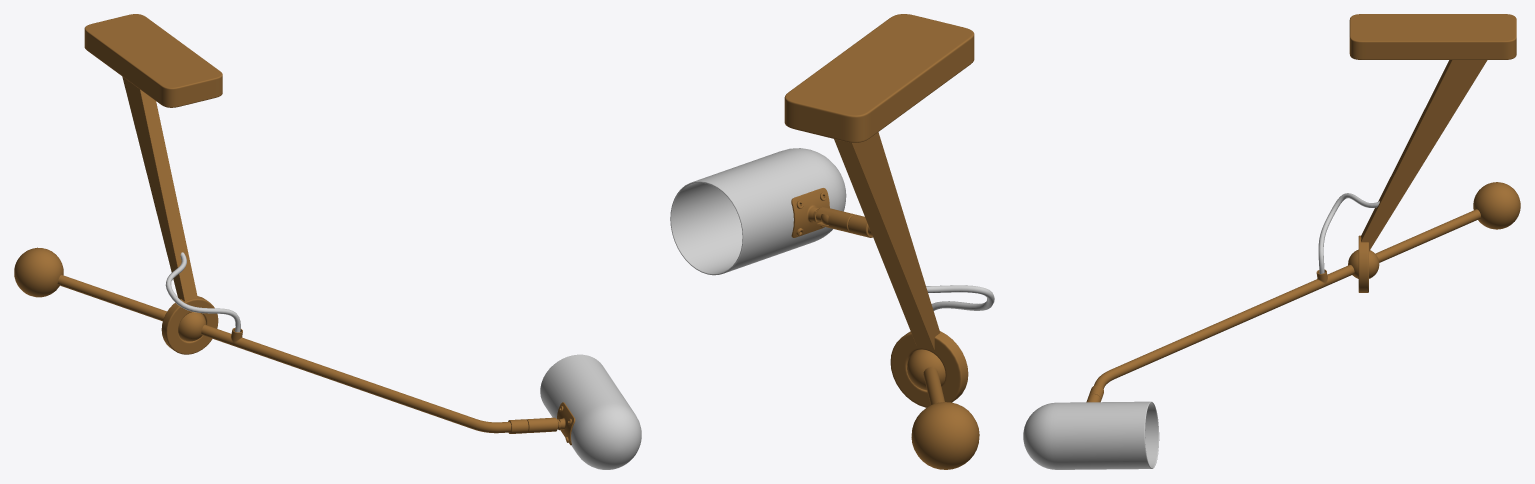
The model's file is Bertfrank_Stasis_Wall_Light_mat(2).obj.
The picture shows the model from 3 angles, left to right: view 1: azimuth 30°, elevation 25°; view 2: azimuth 150°, elevation 25°; view 3: azimuth 270°, elevation 25°; orthographic projection. The views are drawn at different scales.
Parts seen in each view (by area): view 1: Bertfrank_Stasis_Wall_Light_mat2; view 2: Bertfrank_Stasis_Wall_Light_mat2; view 3: Bertfrank_Stasis_Wall_Light_mat2.
Boxes of the visible parts, x1,y1,x2,y2 form: Bertfrank_Stasis_Wall_Light_mat2: [14, 14, 641, 469]; Bertfrank_Stasis_Wall_Light_mat2: [670, 14, 994, 469]; Bertfrank_Stasis_Wall_Light_mat2: [1023, 14, 1520, 469].
Bounding box in the file's own units: 42.91 × 33.79 × 47.67.
